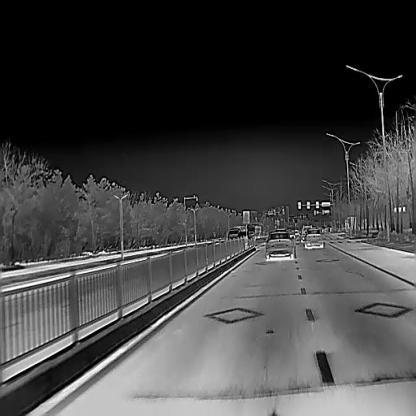car: (264, 230, 294, 260), (304, 228, 323, 248), (300, 224, 316, 244), (227, 224, 247, 240), (292, 228, 302, 243), (236, 231, 249, 242), (286, 230, 295, 244), (285, 224, 294, 234), (247, 230, 253, 236)
